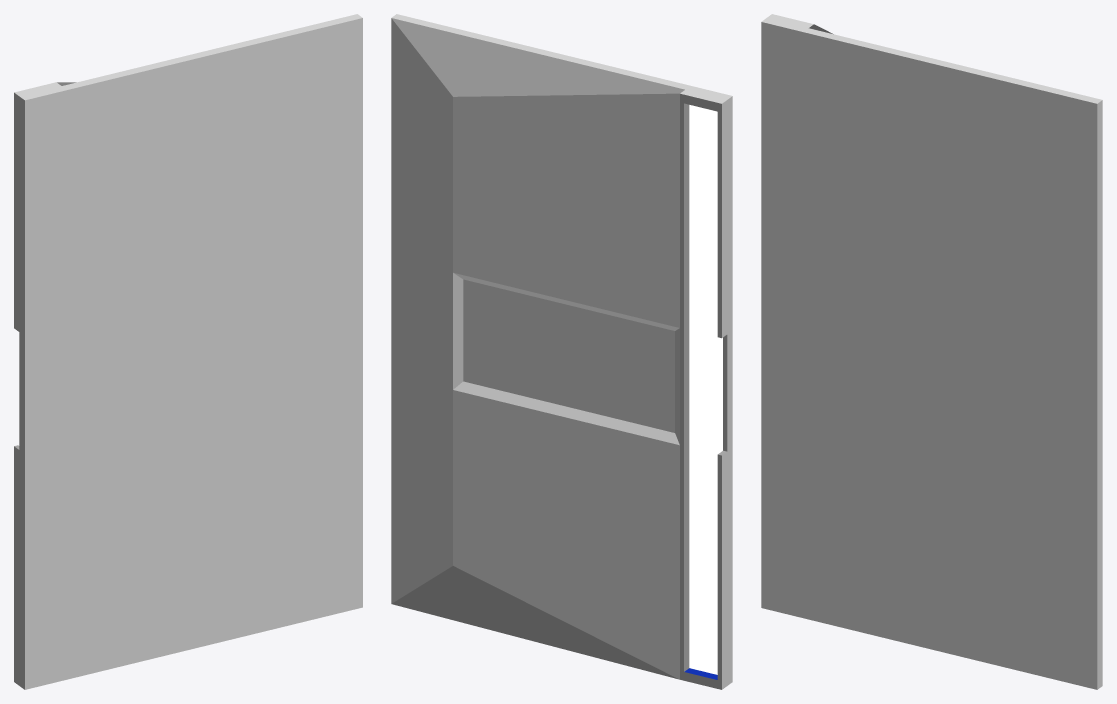
The model's file is Right Lift Door.fbx.
3 renders of one model, left to right at view 1: azimuth 30°, elevation 25°; view 2: azimuth 150°, elevation 25°; view 3: azimuth 330°, elevation 25°, orthographic.
Visible parts, largest first — view 1: Cube.002; view 2: Cube.002; view 3: Cube.002.
Part boxes in pixels (x1=…): Cube.002: x1=14, y1=14, x2=362, y2=689; Cube.002: x1=391, y1=14, x2=732, y2=689; Cube.002: x1=761, y1=14, x2=1102, y2=689.
Bounding box in the file's own units: 180 × 300 × 10.
